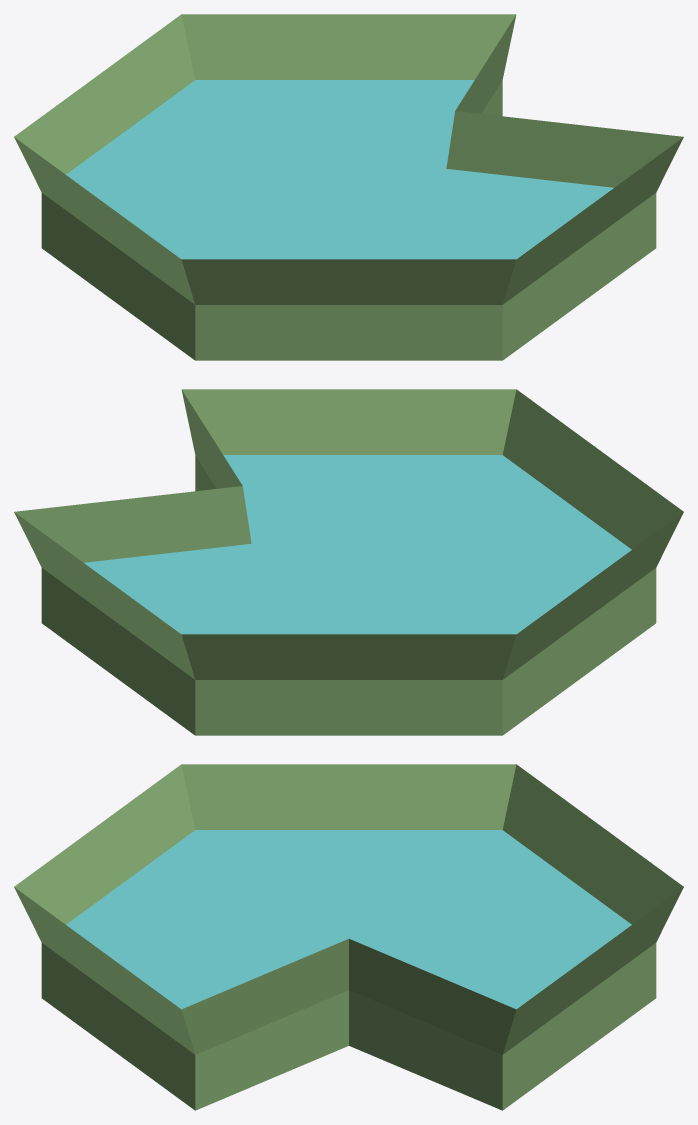
Rendered from lily_small.glb.
3 renders of one model, top to bottom at view 1: azimuth 30°, elevation 25°; view 2: azimuth 150°, elevation 25°; view 3: azimuth 270°, elevation 25°, orthographic.
Visible parts, largest first — view 1: lily_small; view 2: lily_small; view 3: lily_small.
Part boxes in pixels (bbox=[...]): lily_small: bbox=[14, 14, 683, 360]; lily_small: bbox=[14, 389, 683, 735]; lily_small: bbox=[14, 764, 683, 1110].
Size of the model in its own units: 0.1888 by 0.04 by 0.218.
